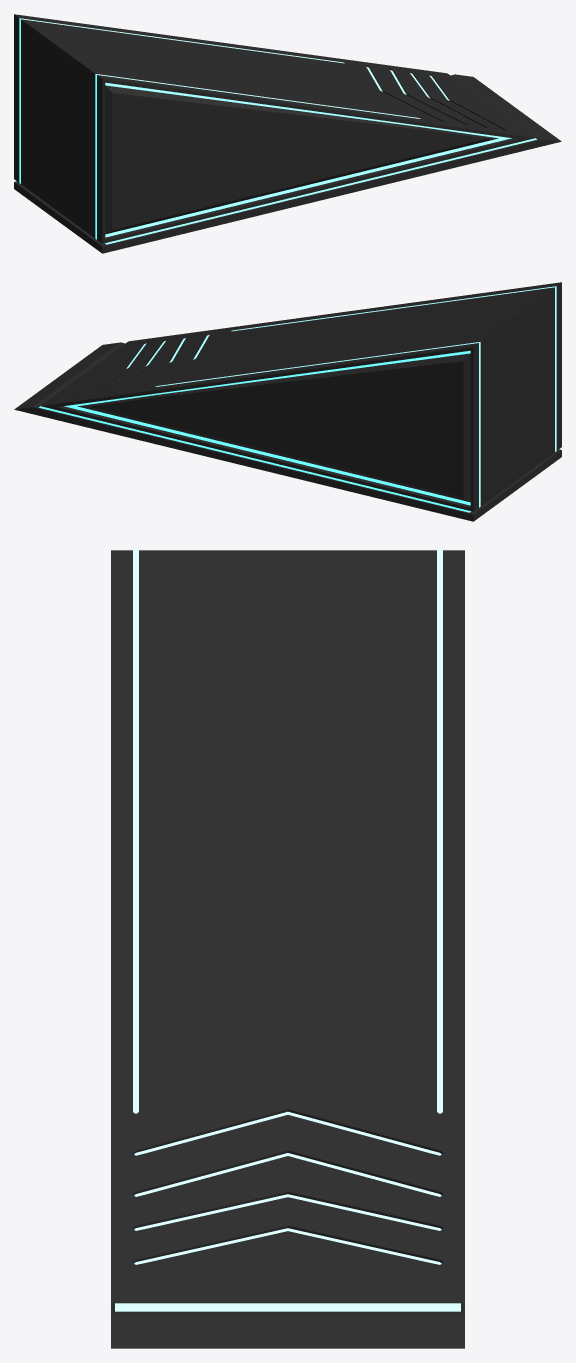
Rendered from Rampa.fbx.
3 views of the same model, one above another, from view 1: azimuth 30°, elevation 25°; view 2: azimuth 150°, elevation 25°; view 3: azimuth 270°, elevation 25° (orthographic). The views are drawn at different scales.
Parts seen in each view (by area): view 1: Cube.002; view 2: Cube.002; view 3: Cube.002.
Boxes of the visible parts, x1,y1,x2,y2 form: Cube.002: (14, 14, 561, 253); Cube.002: (14, 282, 561, 521); Cube.002: (111, 550, 464, 1348).
Size of the model in its own units: 1800 by 600 by 654.
